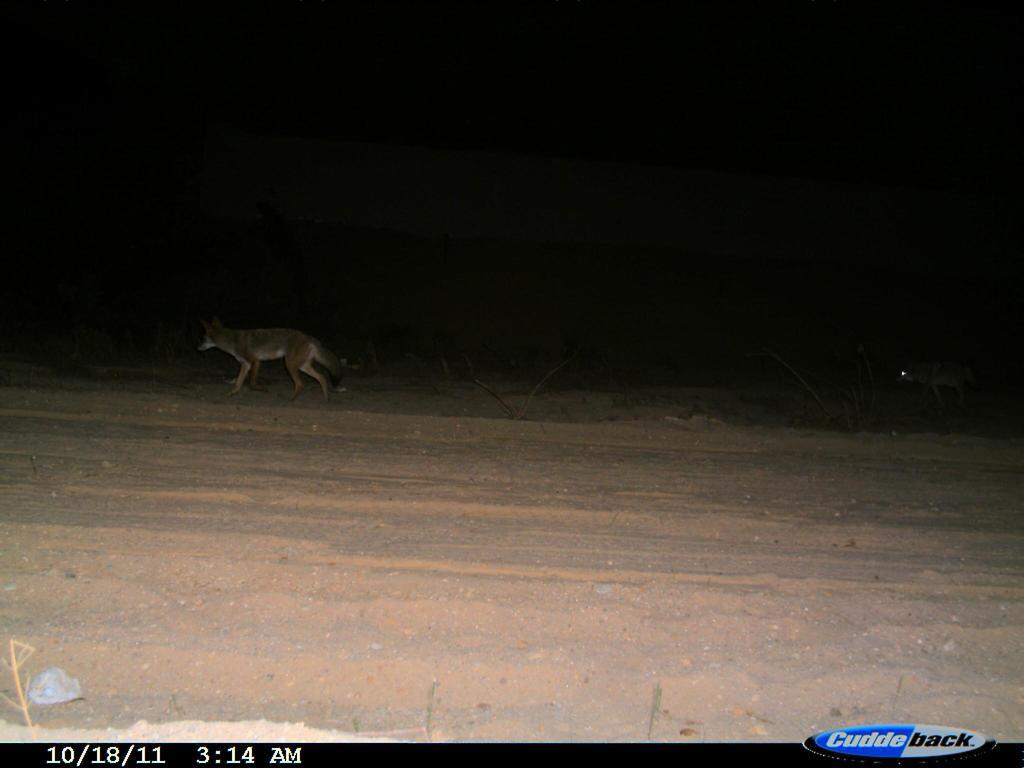coyote: (184, 304, 349, 404), (877, 329, 1001, 430)
